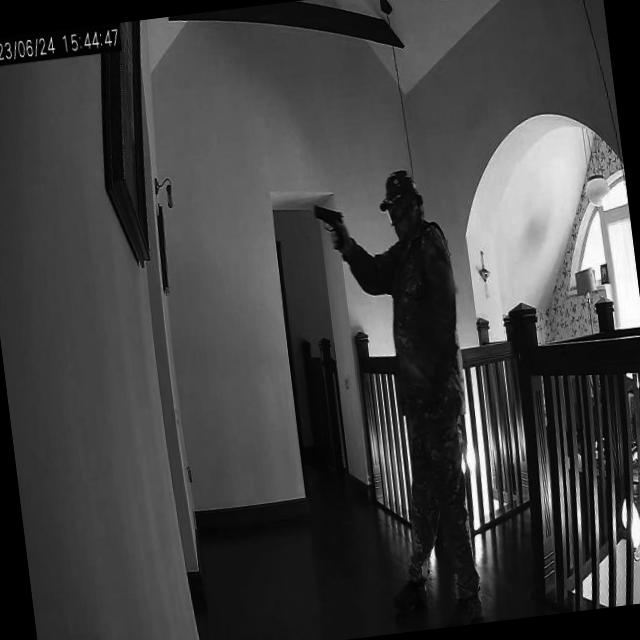gun: (312, 198, 350, 257)
person with a gun: (343, 162, 490, 633)
